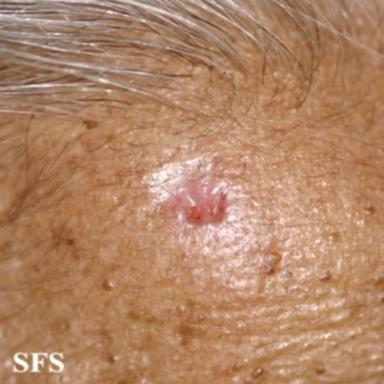basal-cell-carcinoma: (183, 183, 228, 223)
